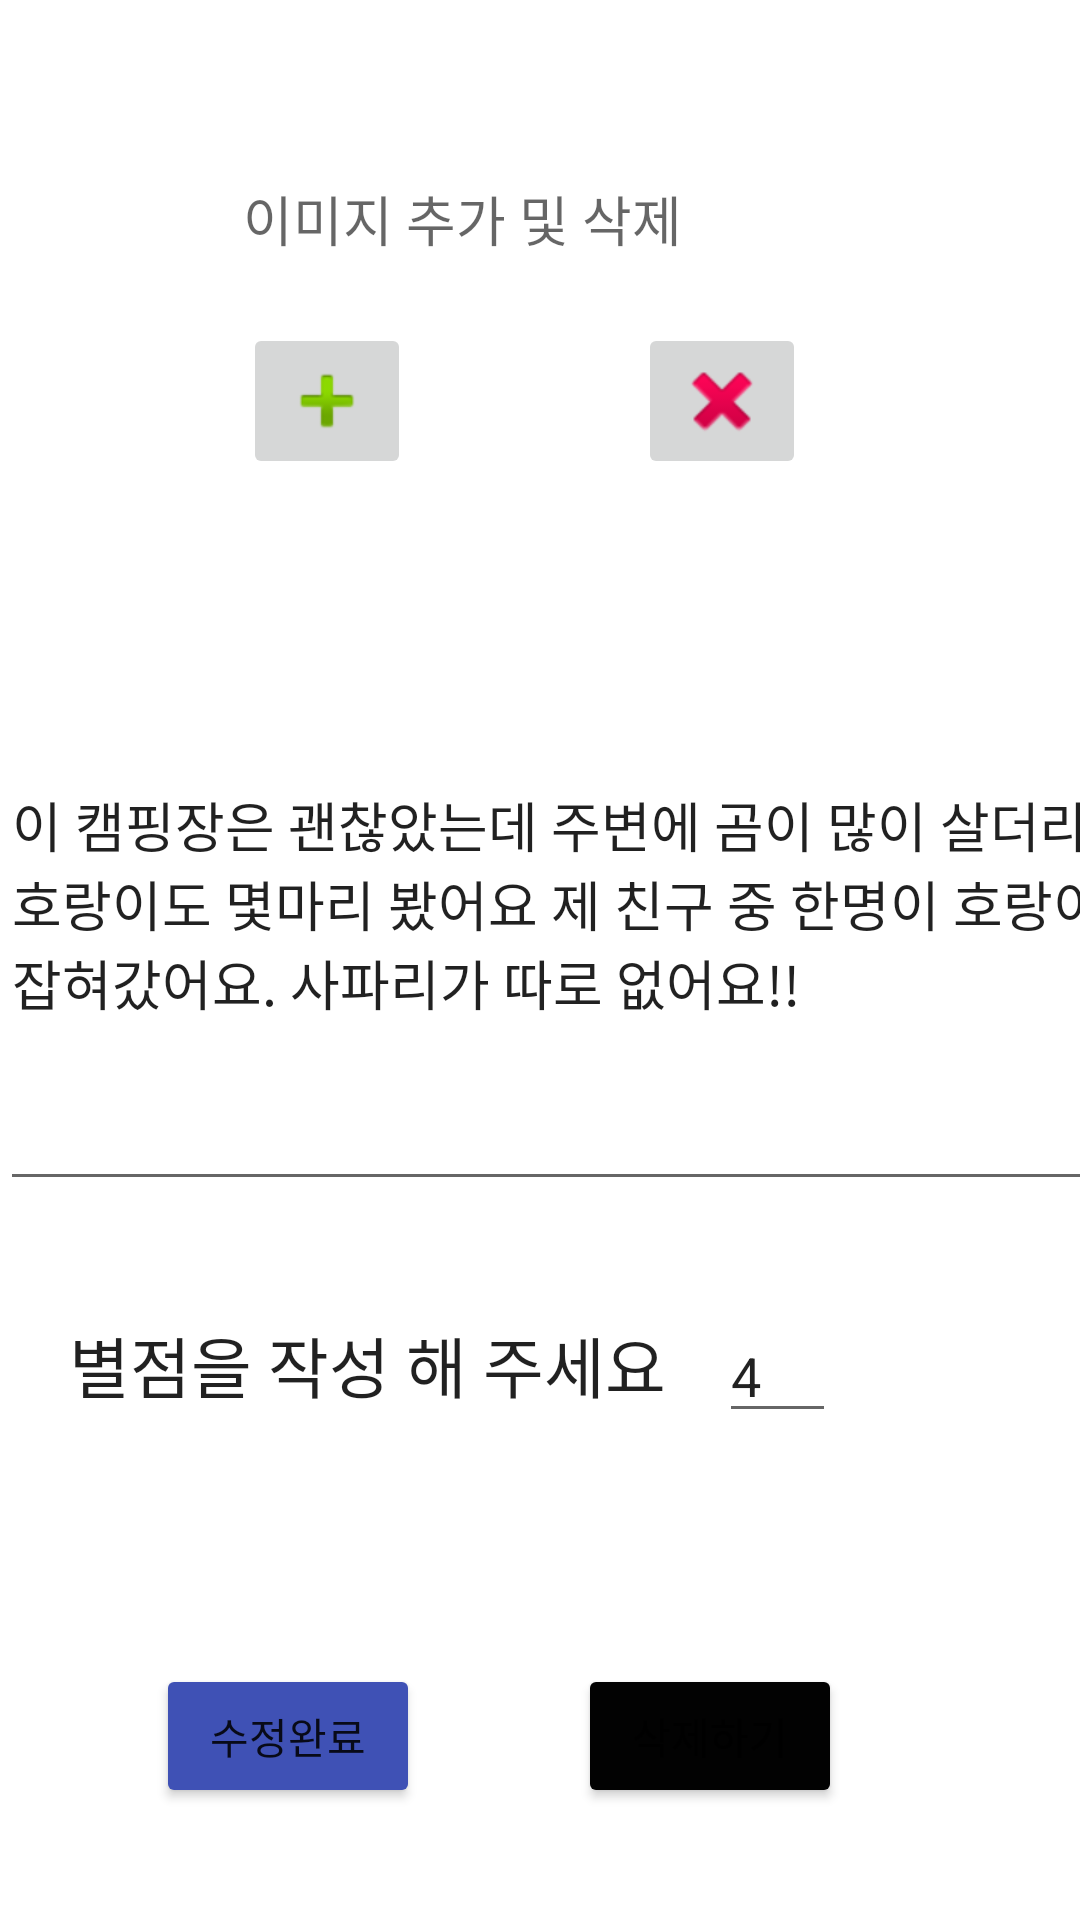

Where to tap for icons on this 1080*1920 app screen, as (x,y):
add: (327,401)
delete: (722,401)
